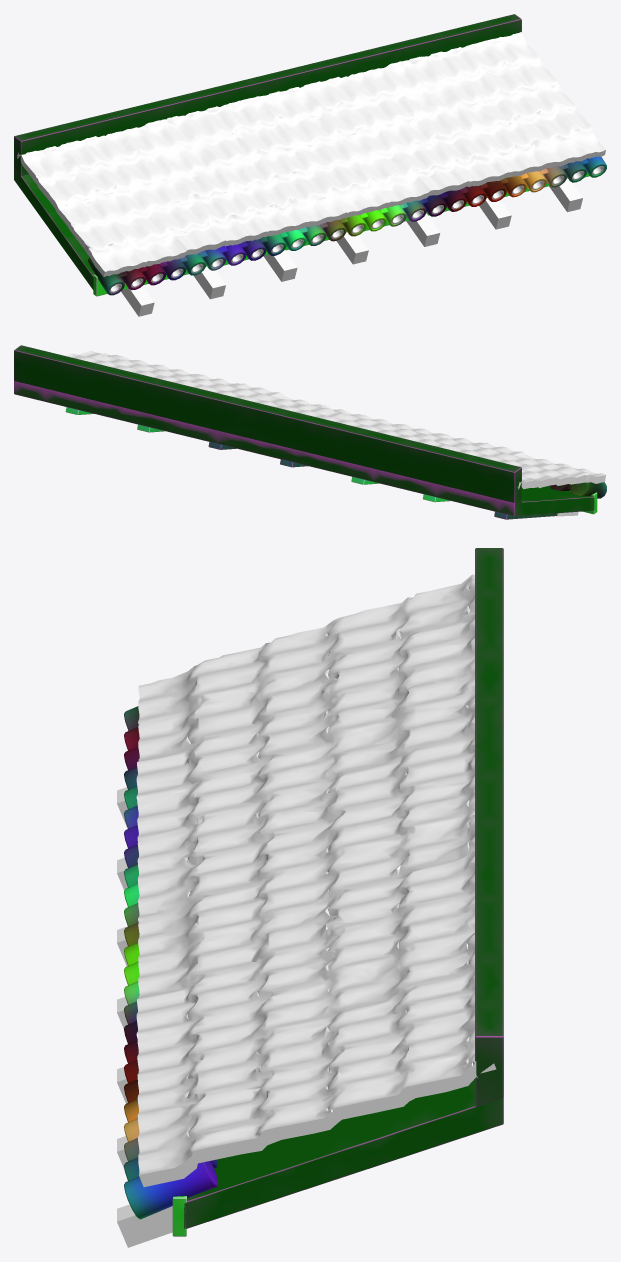
The model's file is overhang_slope_100_01_middle.fbx.
3 views of the same model, one above another, from view 1: azimuth 30°, elevation 25°; view 2: azimuth 150°, elevation 25°; view 3: azimuth 270°, elevation 25° (orthographic). The views are drawn at different scales.
Parts seen in each view (by area): view 1: overhang_slope_100_01_middle; view 2: overhang_slope_100_01_middle; view 3: overhang_slope_100_01_middle.
Boxes of the visible parts, <box> form: overhang_slope_100_01_middle: <box>14,14,606,316</box>; overhang_slope_100_01_middle: <box>14,345,606,519</box>; overhang_slope_100_01_middle: <box>117,548,503,1247</box>.
Bounding box in the file's own units: 4 × 0.9122 × 1.34.
